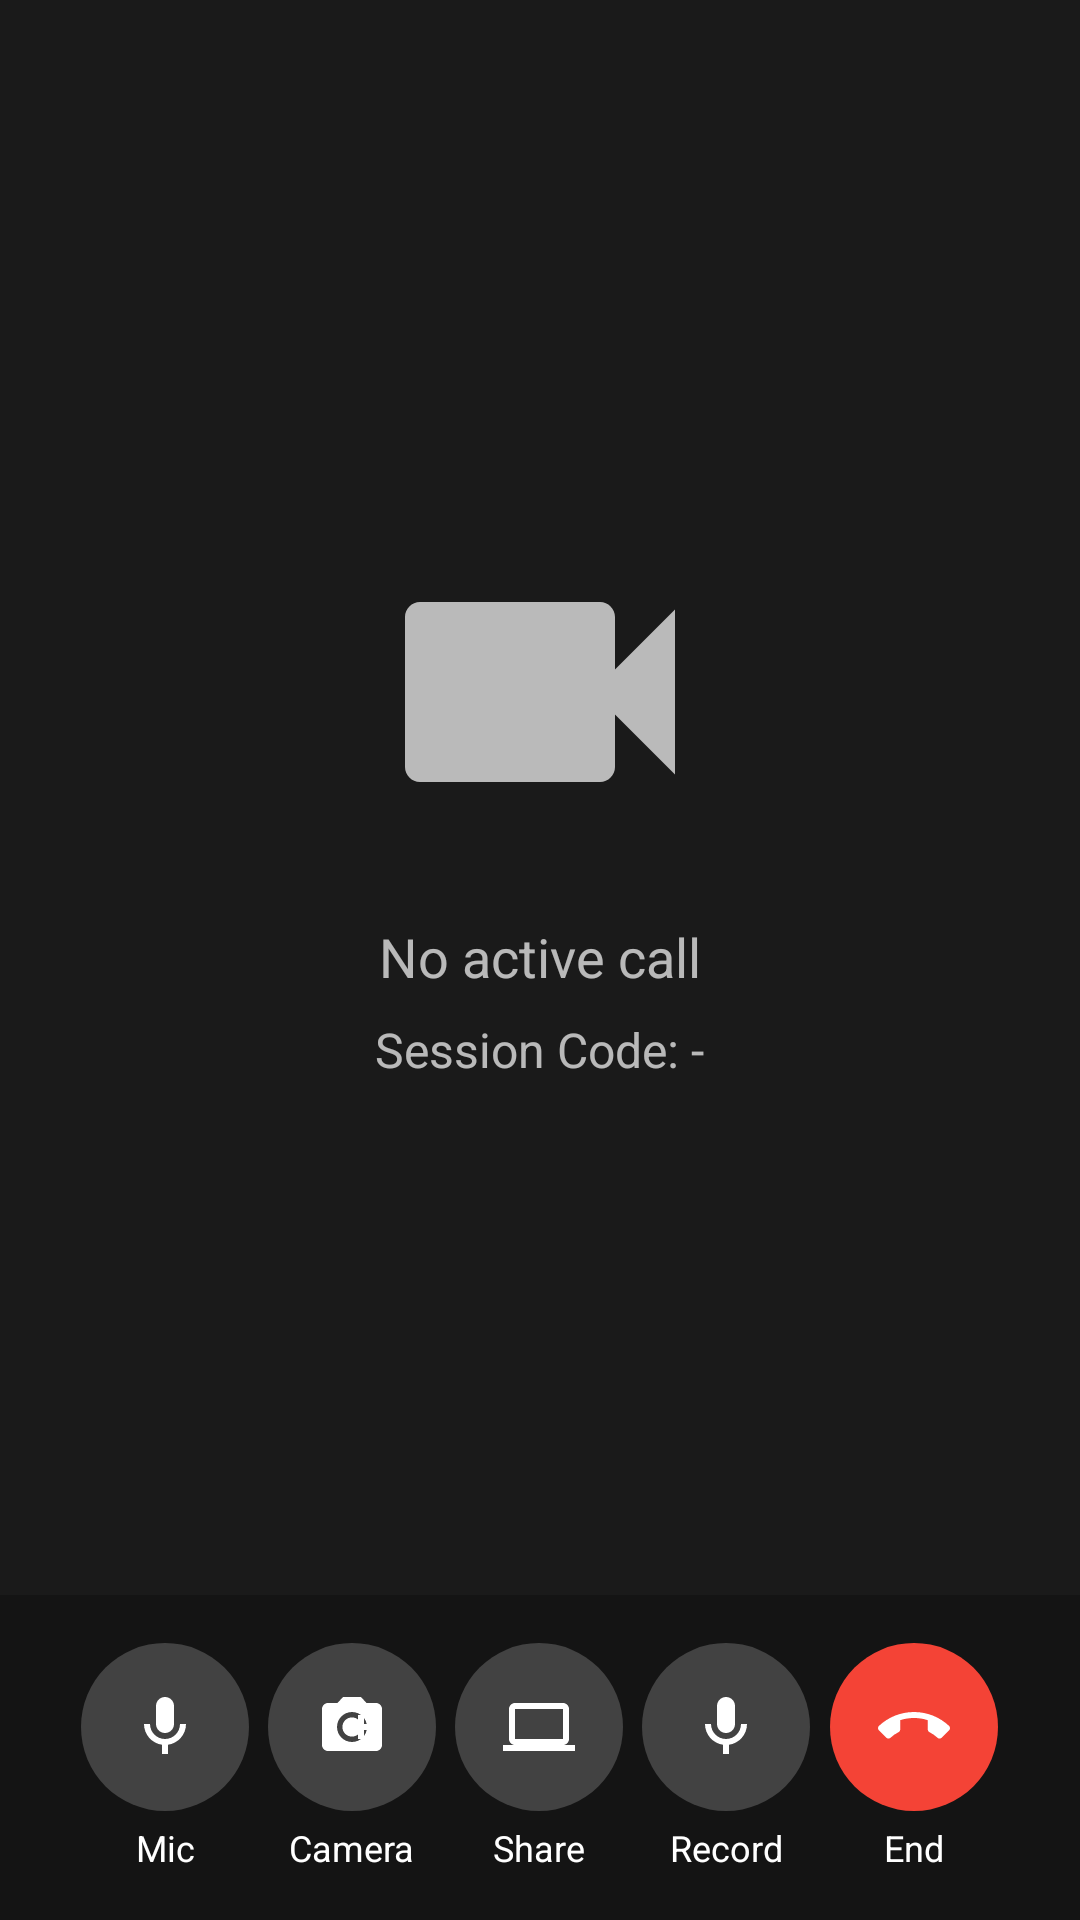

Icons on this 1080 x 1920 Android screen, each with its box as box=[x1, y1, x2, y2]:
videocam: box=[405, 602, 675, 782]
